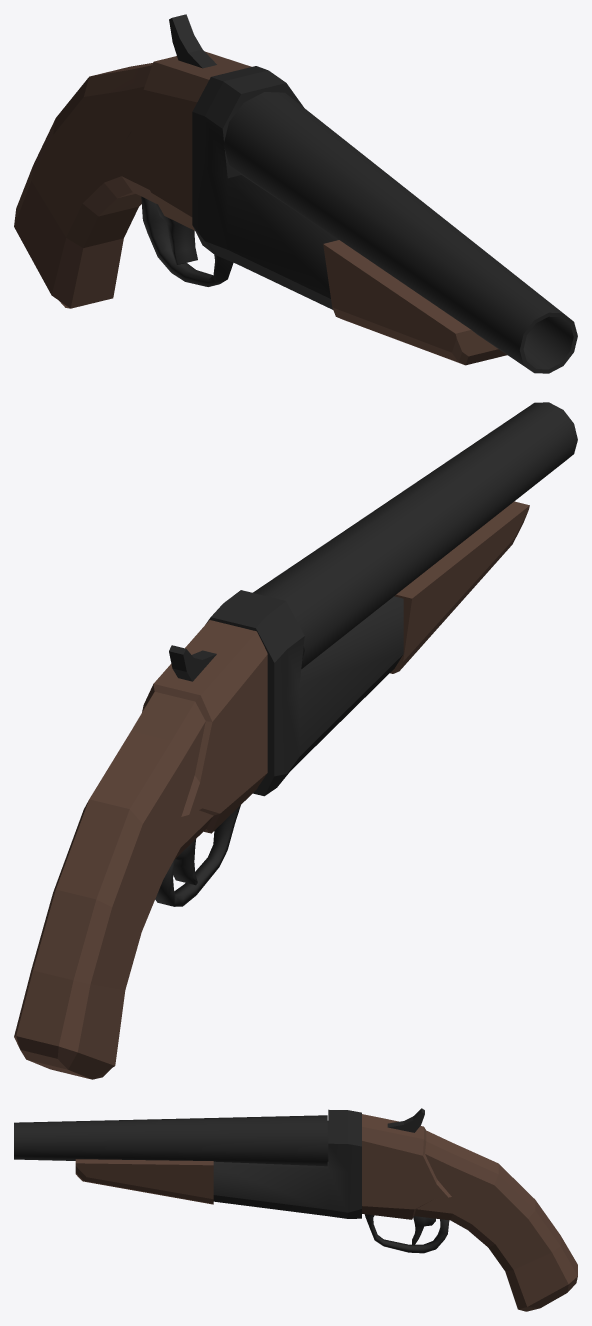
The model's file is Shotgun_1.fbx.
The picture shows the model from 3 angles, top to bottom: view 1: azimuth 30°, elevation 25°; view 2: azimuth 150°, elevation 25°; view 3: azimuth 270°, elevation 25°; orthographic projection. The views are drawn at different scales.
Visible parts, largest first — view 1: Shotgun_1; view 2: Shotgun_1; view 3: Shotgun_1.
Part boxes in pixels (x1,y1,x2,y2): Shotgun_1: [14, 14, 577, 373]; Shotgun_1: [14, 402, 577, 1079]; Shotgun_1: [14, 1108, 577, 1311].
Bounding box in the file's own units: 0.0525 × 0.5199 × 0.2.
